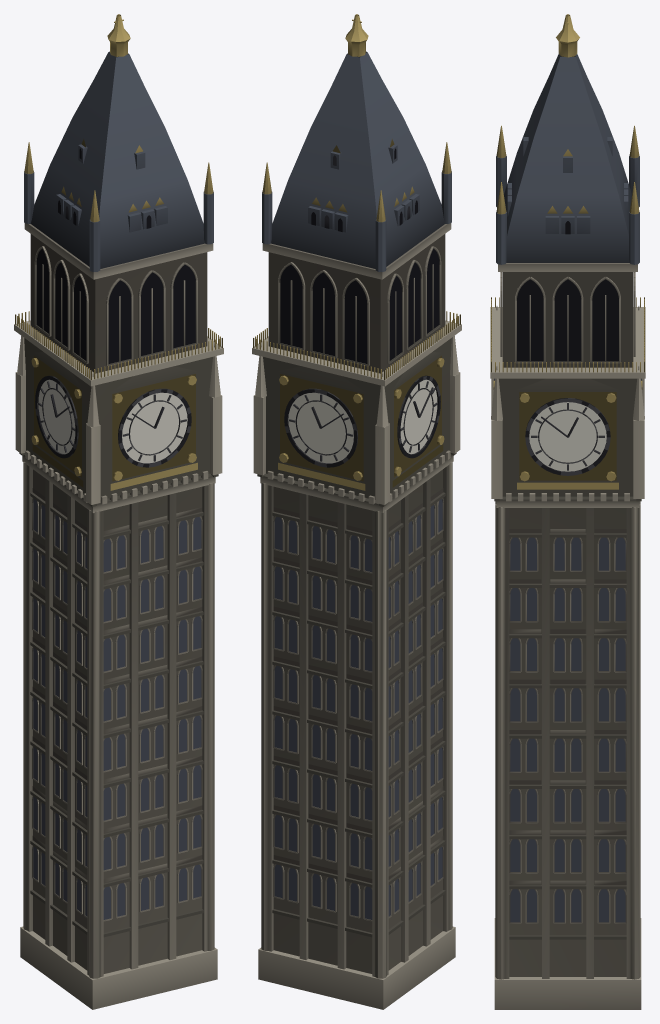
File: bigben.glb
3 views of the same model, side by side, from view 1: azimuth 30°, elevation 25°; view 2: azimuth 150°, elevation 25°; view 3: azimuth 270°, elevation 25° (orthographic).
Parts seen in each view (by area): view 1: lack, glas, licht; view 2: lack, glas, licht; view 3: lack, glas, licht.
Part boxes in pixels (x1,y1,x2,y2): lack: [14, 14, 223, 1009]; glas: [33, 499, 201, 919]; licht: [38, 379, 187, 463]; lack: [252, 14, 461, 1009]; glas: [274, 499, 442, 919]; licht: [288, 379, 437, 463]; lack: [490, 14, 645, 1009]; glas: [510, 537, 625, 922]; licht: [529, 402, 606, 471].
Bounding box in the file's own units: 14.04 × 96 × 14.
